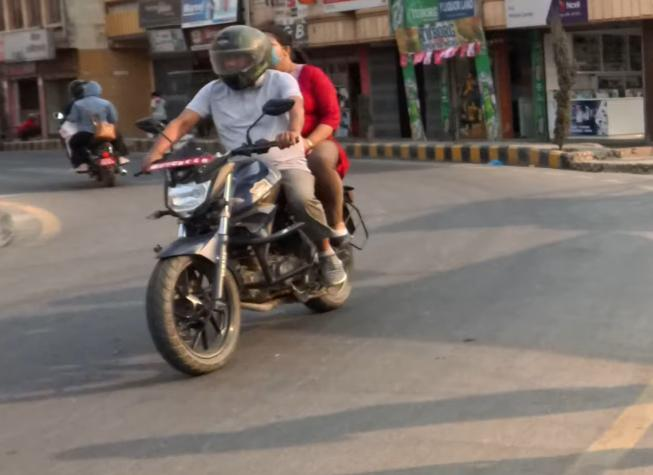bike: (134, 90, 376, 370)
